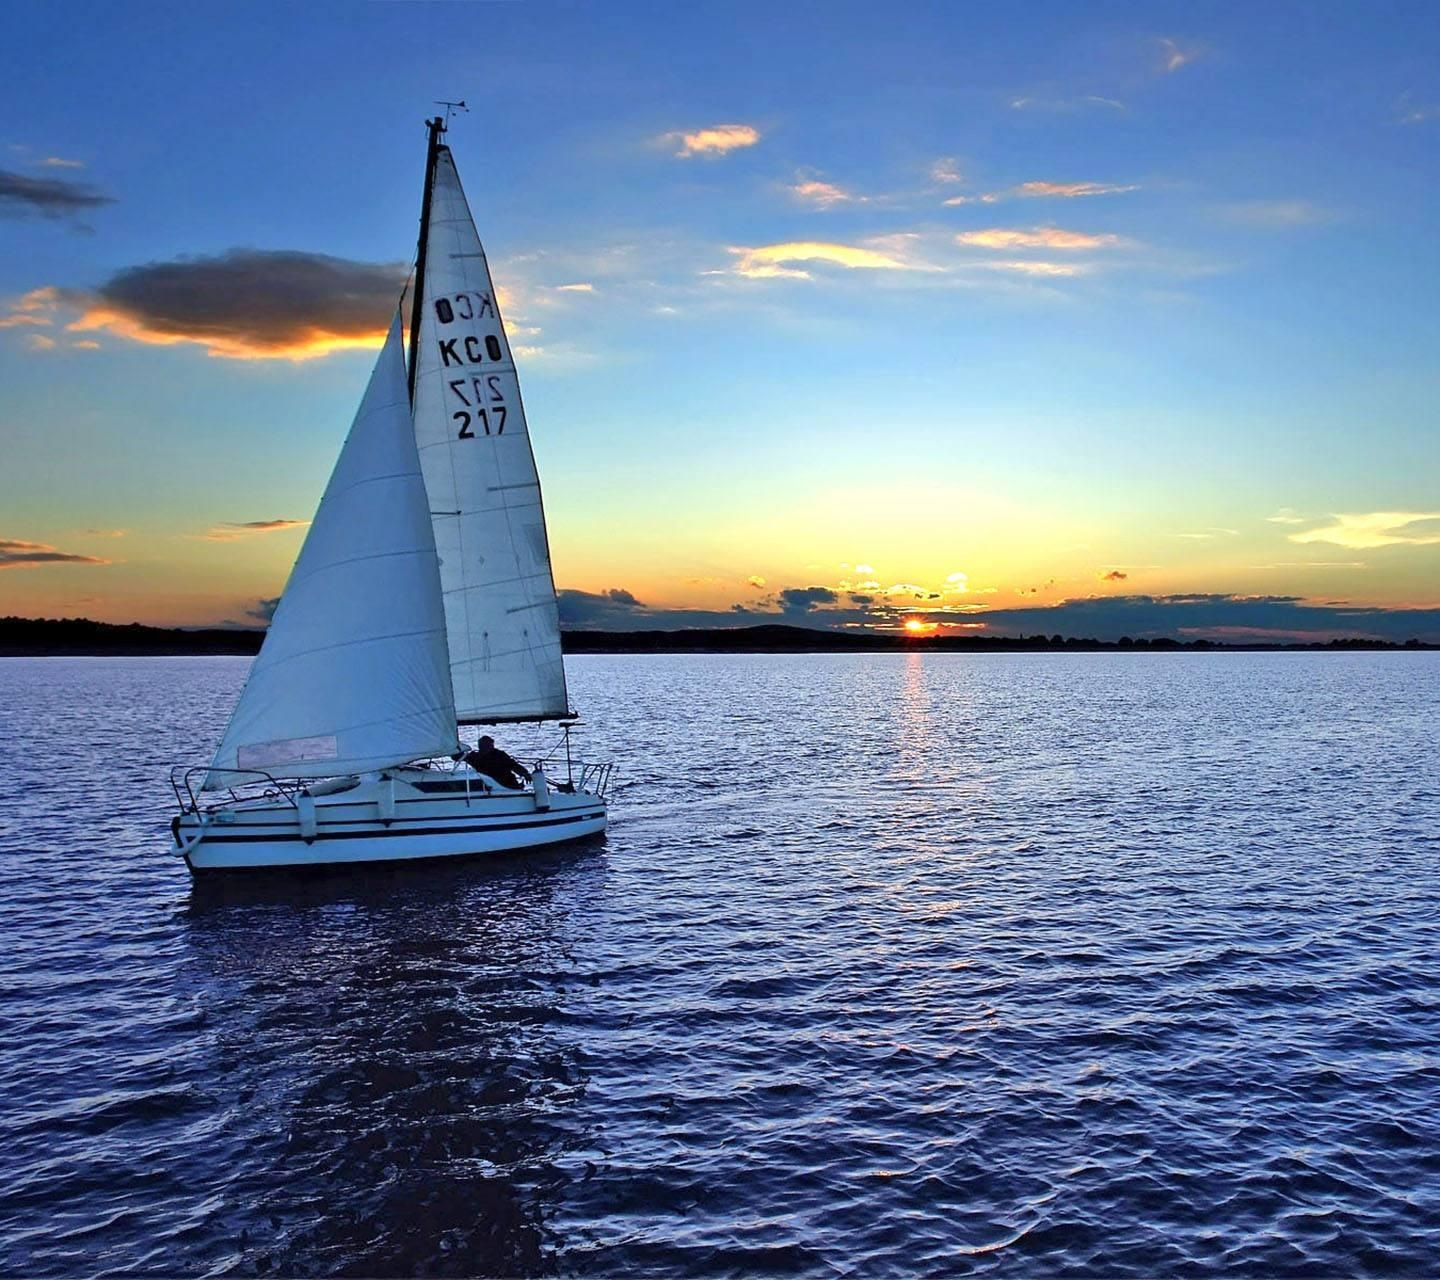fanchuan: (165, 95, 625, 888)
